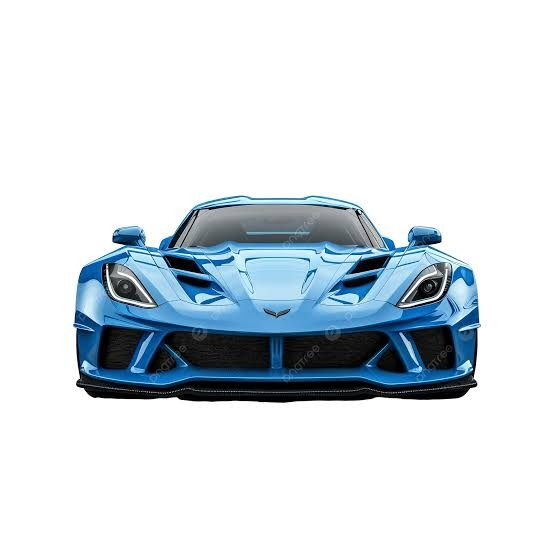car: (71, 205, 486, 391)
